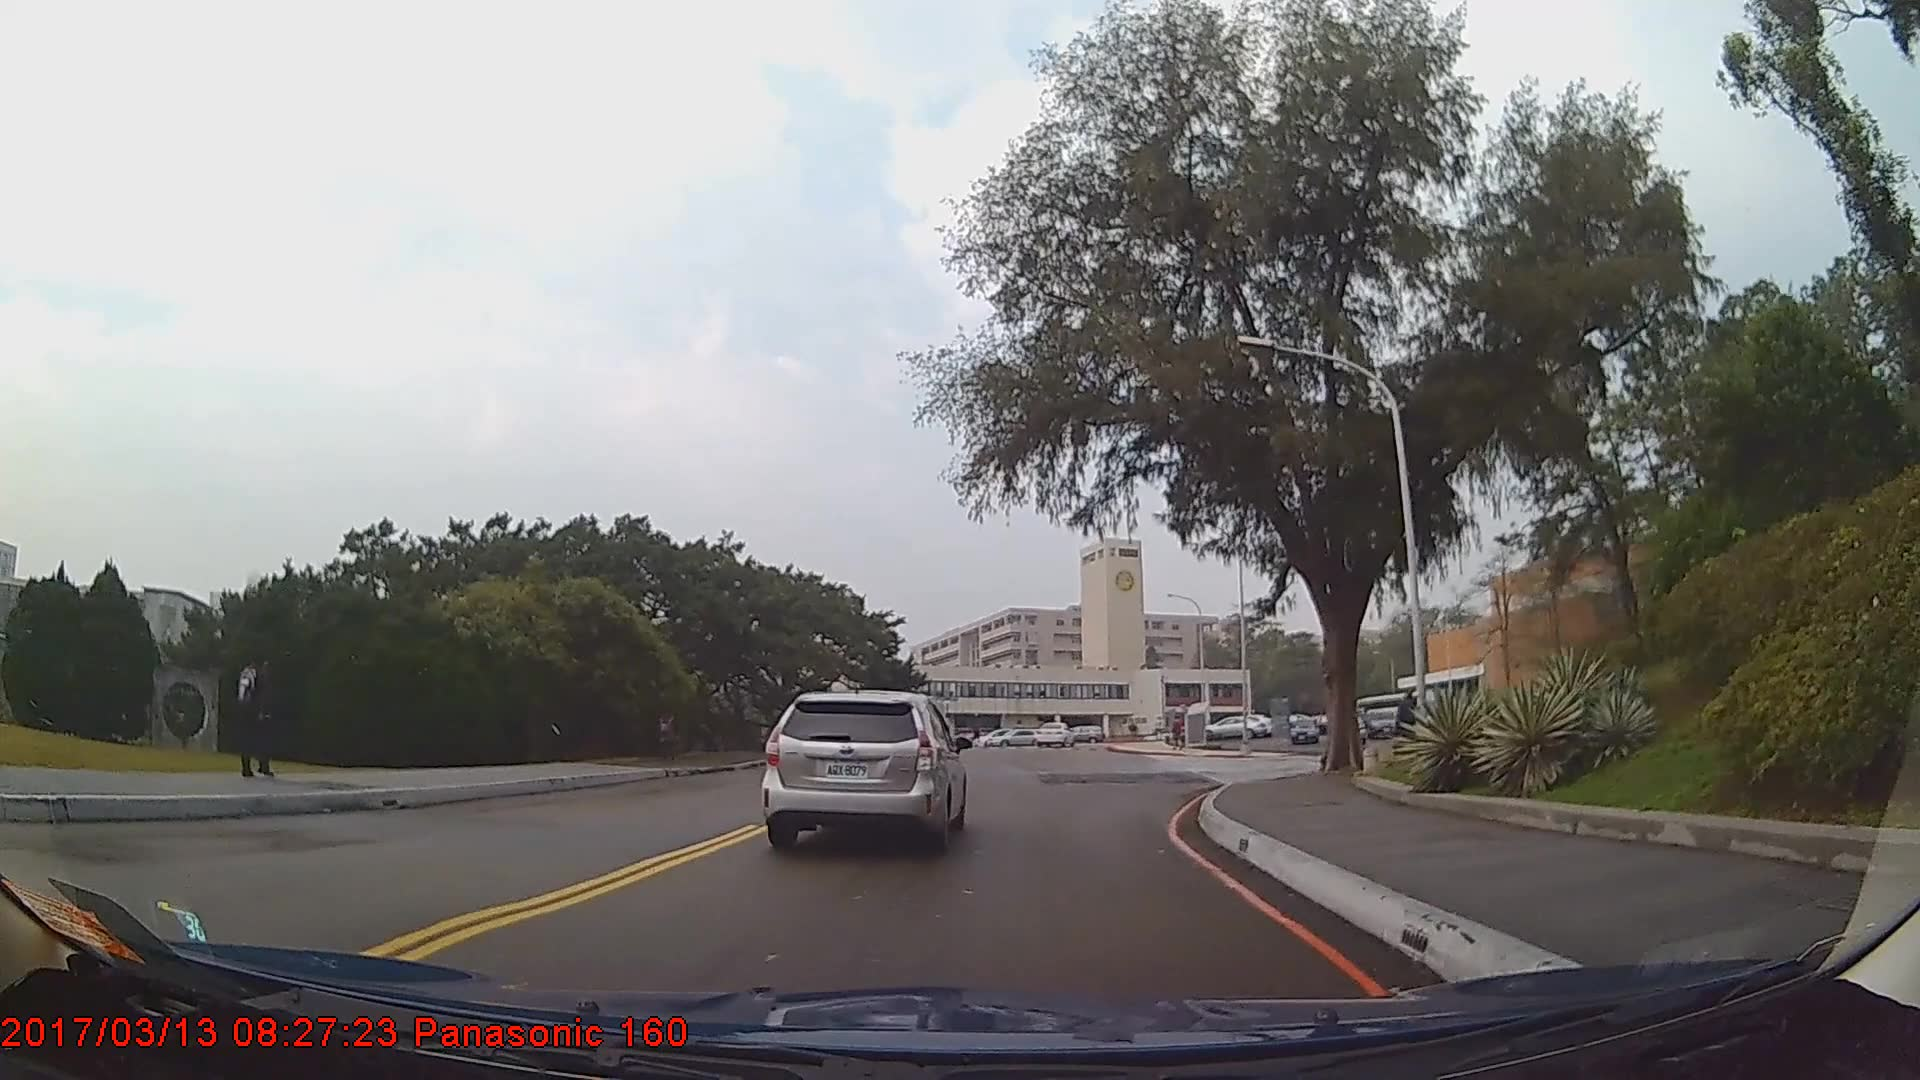pedestrian: (230, 640, 286, 780), (1395, 686, 1422, 764)
vehicle: (761, 686, 964, 850), (1203, 711, 1269, 738), (986, 724, 1046, 749), (1034, 717, 1078, 744), (1367, 705, 1396, 734), (1287, 717, 1317, 744)
